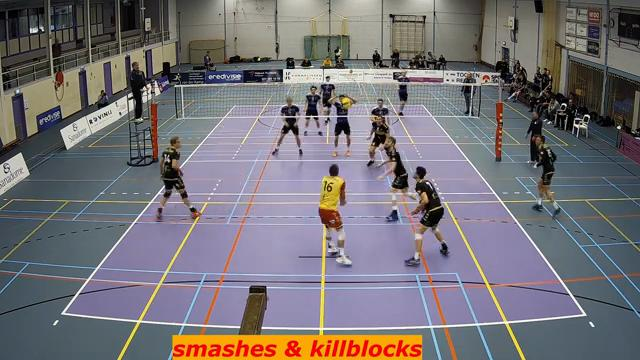ricezione: (316, 162, 356, 266)
